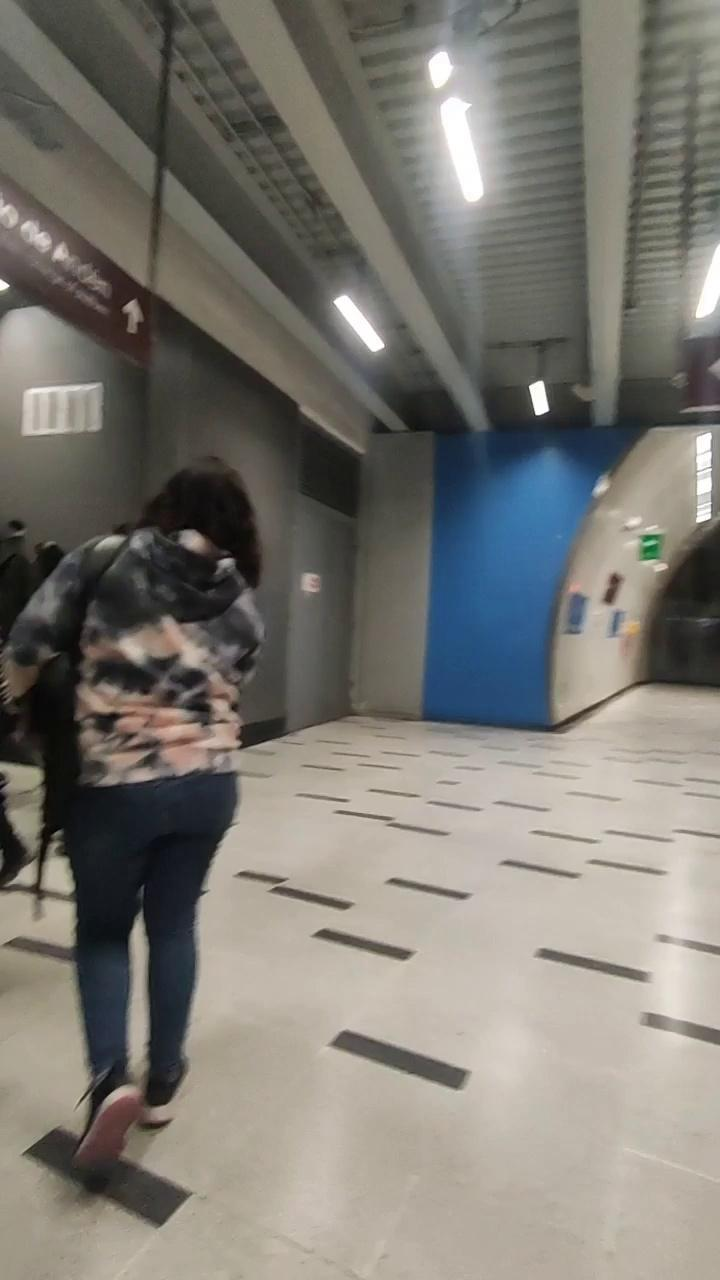up arrow: (119, 294, 148, 340)
